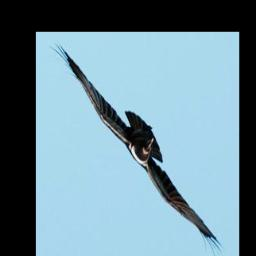Crow: (48, 40, 227, 256)
